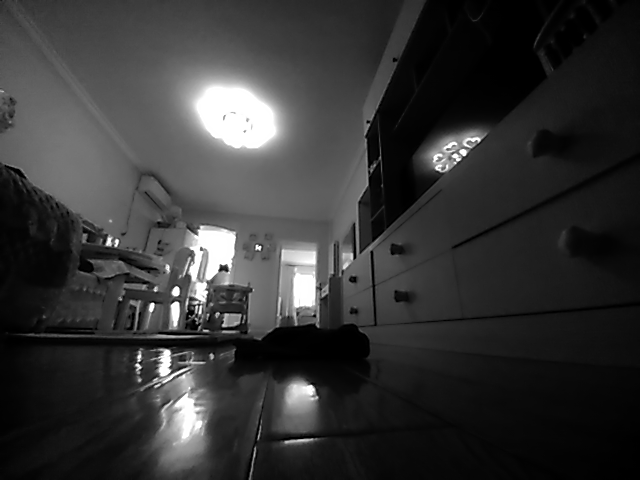carpet: (19, 326, 236, 342)
